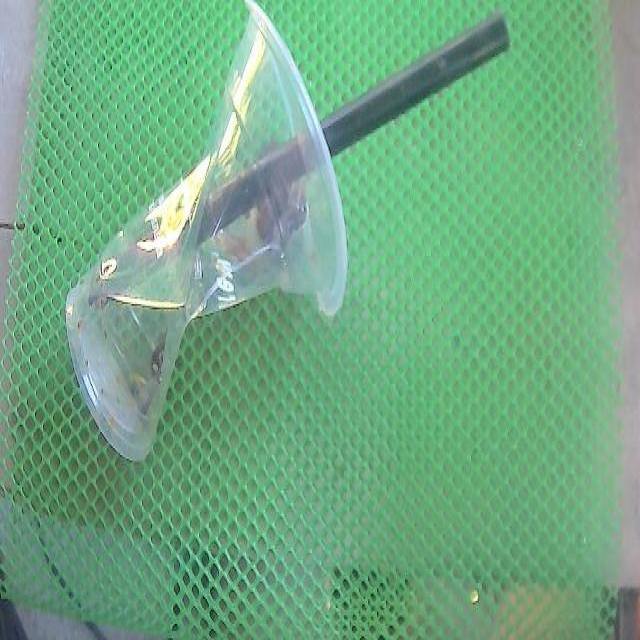bottle: (65, 4, 348, 459)
